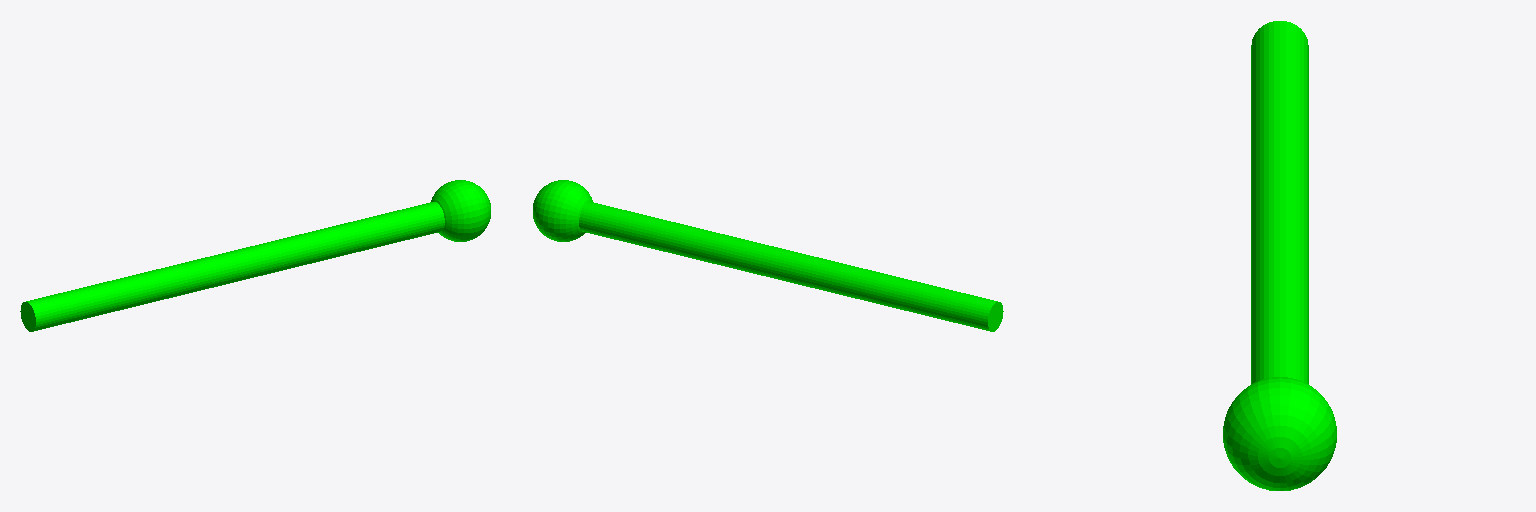
The robot description file, URDF, robot "marker_arrow":
<robot name="marker_arrow">

	<material name="color">
		<color rgba="0 1 0 1"/>
	</material>

	<link name="world"/>
	
	<link name="cylinder">
		<visual>
			<origin rpo="0 0 0" xyz="0 0 0.4"/>
			<geometry>
				<cylinder length="0.8" radius="0.025"/>
			</geometry>
			<material name="color"/>
		</visual>
	</link>
	
	<link name="sphere">
		<visual>
			<geometry>
				<sphere radius="0.05"/>
			</geometry>
			<material name="color"/>
		</visual>
	</link>
	
	<joint name="joint0" type="fixed">
		<origin rpy="0 1.57 0" xyz="0 0 0"/>
		<parent link="world" />
		<child link="cylinder" />
	</joint>
	
	<joint name="joint1" type="fixed">
		<origin rpy="0 0 0" xyz="0 0 0.8"/>
		<parent link="cylinder" />
		<child link="sphere" />
	</joint>
	
</robot>

--- Facts derived from the render (not from the file) ---
The picture shows the robot from 3 angles, left to right: view 1: azimuth 30°, elevation 25°; view 2: azimuth 150°, elevation 25°; view 3: azimuth 270°, elevation 25°; orthographic projection.
Robot: marker_arrow — 3 links, 2 joints (2 fixed); root link world; default pose: every joint at zero.
Visible links, largest first — view 1: cylinder, sphere; view 2: cylinder, sphere; view 3: cylinder, sphere.
Boxes of the visible links, <box> form: cylinder: <box>20,202,444,331</box>; sphere: <box>431,180,490,241</box>; cylinder: <box>579,202,1003,331</box>; sphere: <box>533,180,592,241</box>; cylinder: <box>1251,21,1308,383</box>; sphere: <box>1223,377,1336,490</box>.
Bounding box of the posed robot: 0.85 × 0.1 × 0.1 m (x, y, z).
Geometry: primitives only (box / cylinder / sphere), no mesh files.